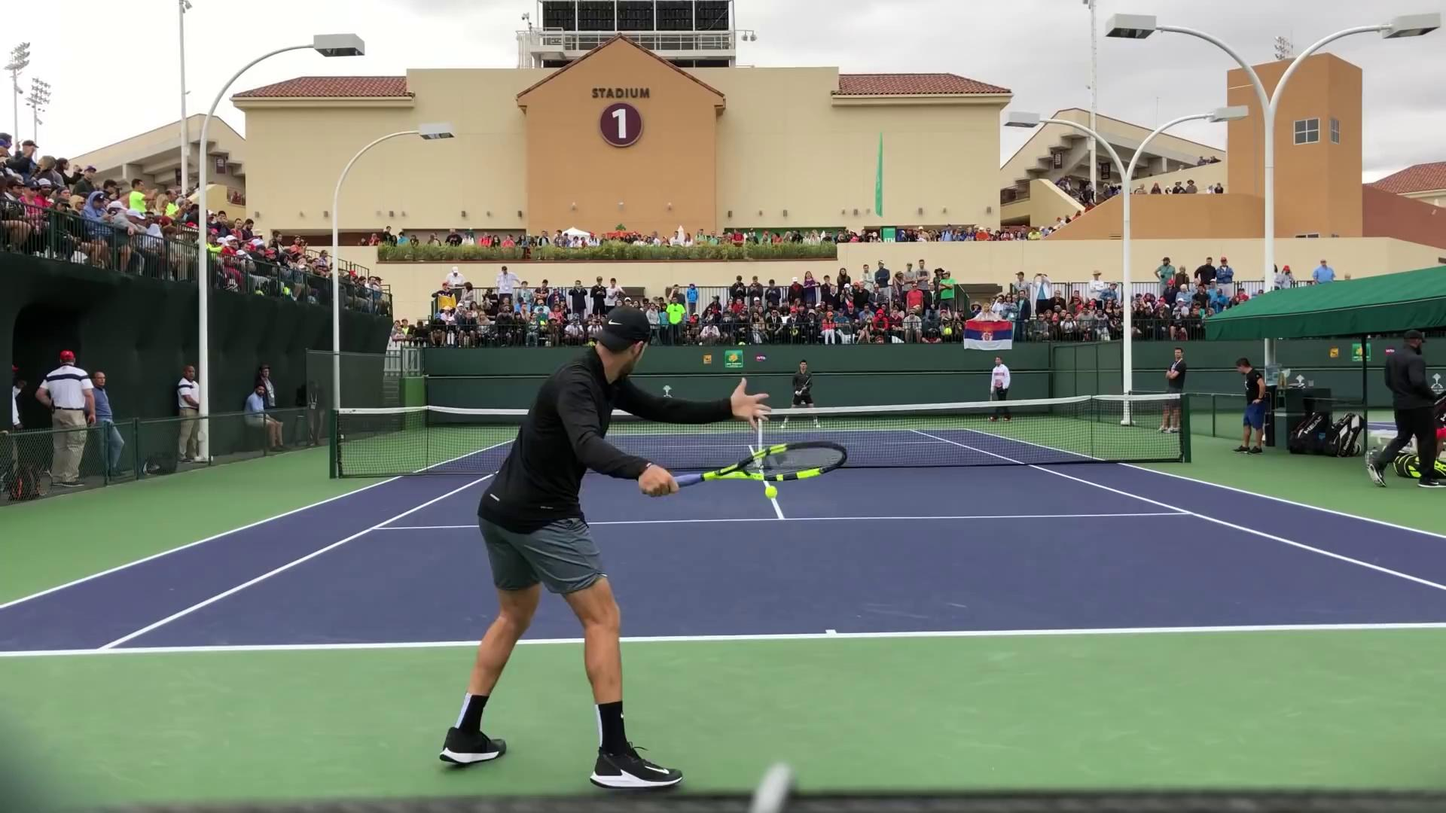ball: (764, 485, 778, 499)
